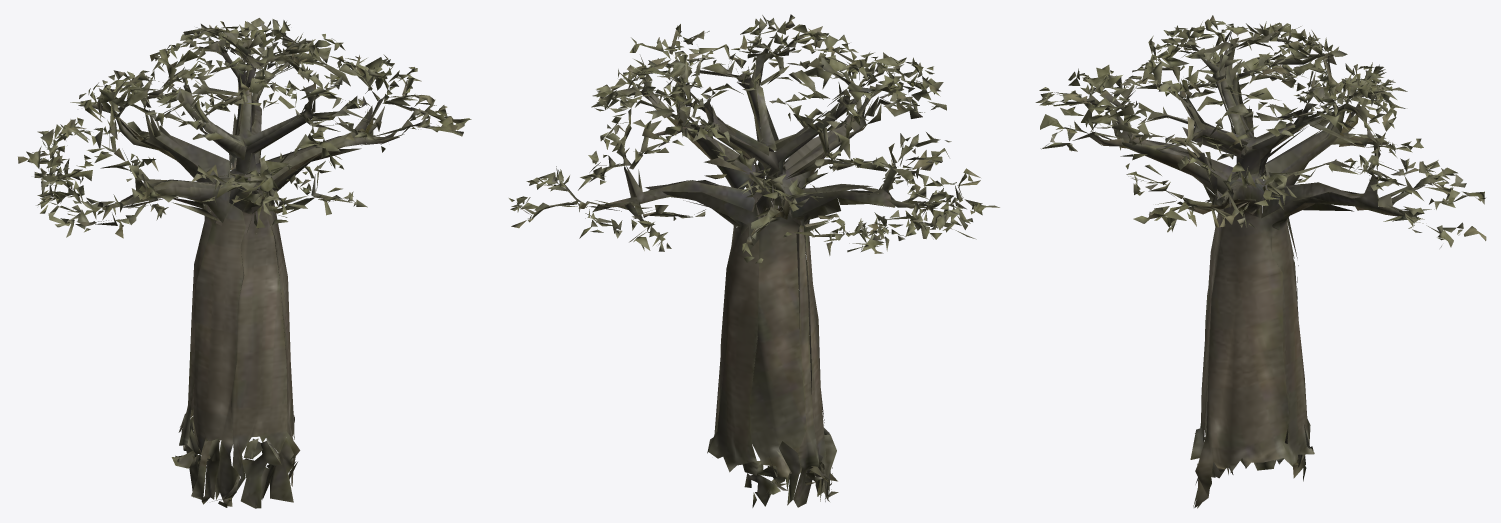
The model's file is baoba_zahar_jovem.glb.
3 renders of one model, left to right at view 1: azimuth 30°, elevation 25°; view 2: azimuth 150°, elevation 25°; view 3: azimuth 270°, elevation 25°, orthographic. The views are drawn at different scales.
Parts seen in each view (by area): view 1: geometry_0; view 2: geometry_0; view 3: geometry_0.
Boxes of the visible parts, x1,y1,x2,y2 form: geometry_0: (18, 18, 471, 508); geometry_0: (509, 14, 999, 507); geometry_0: (1035, 15, 1486, 508).
Size of the model in its own units: 0.8665 by 0.9404 by 0.8455.
Materials: 1 (1 with a texture image).
